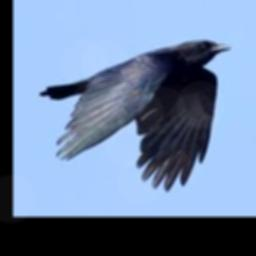Crow: (38, 40, 232, 191)
